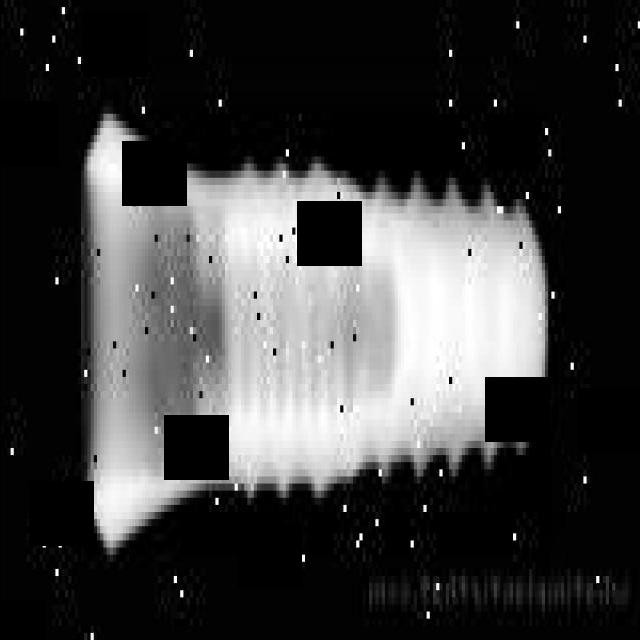Titan Implant Implant: (83, 107, 554, 555)
